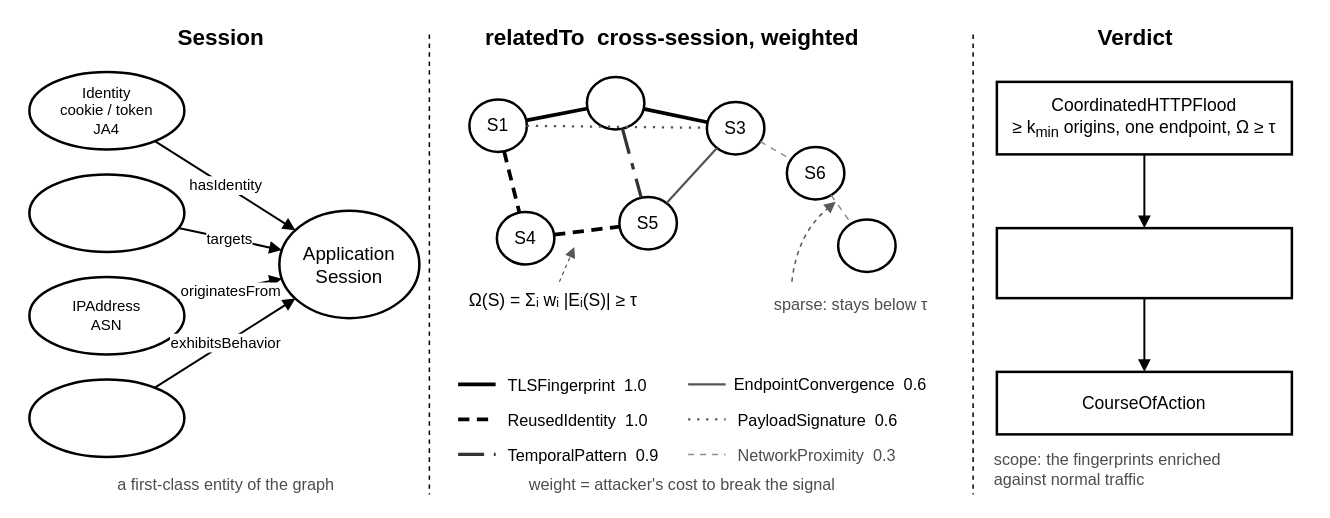
This 1330x518 diagram has some shape labels left out. The centre of each missing label's shape, as x and y in pixels:
Behavior BotBehavior: point 106,418
Endpoint API / login checkout: point 106,212
evidence chain JSON-LD / STIX 2.1: point 1143,262
S2: point 615,102
S7: point 866,245
